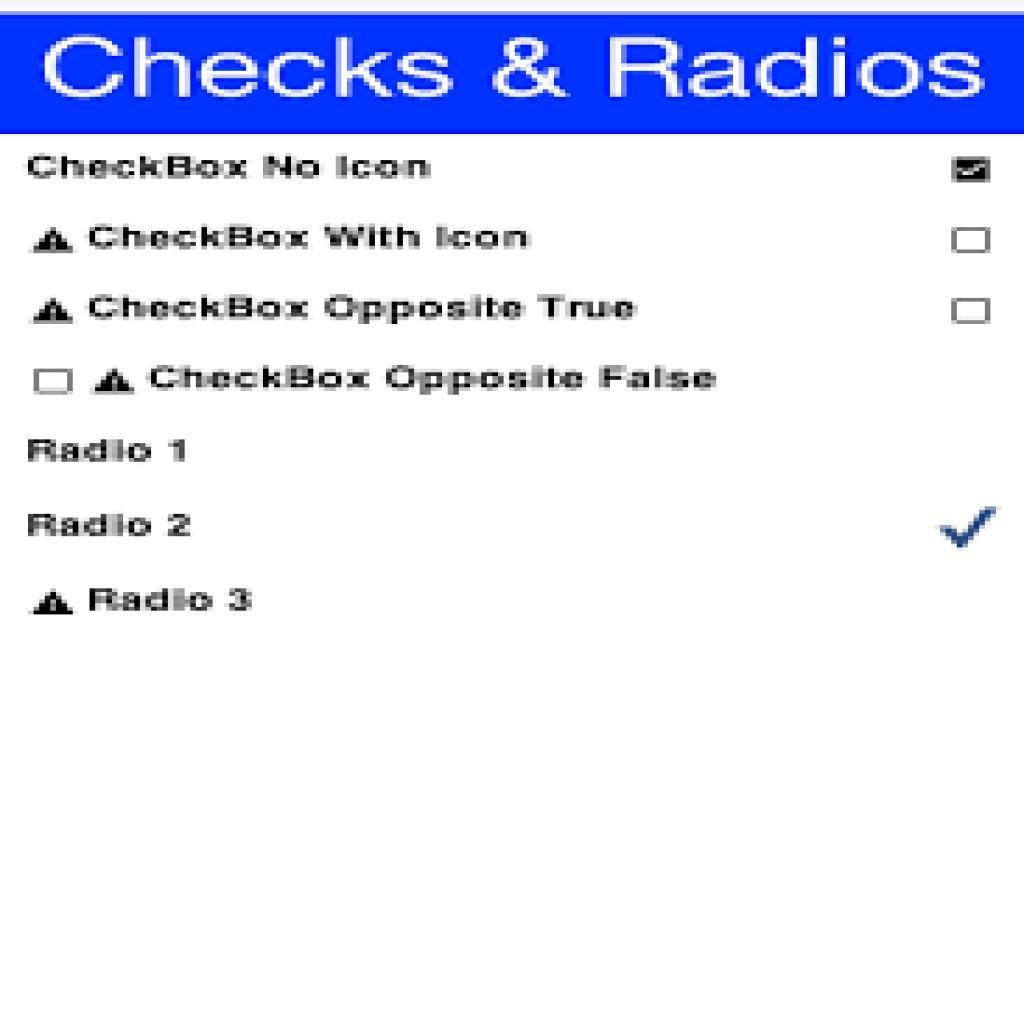checkbox: (953, 229, 992, 256), (952, 298, 991, 325), (952, 157, 991, 183), (34, 370, 74, 395)
icon: (936, 504, 1003, 556), (90, 362, 131, 396), (31, 588, 77, 618), (30, 297, 73, 327), (30, 228, 76, 256)
label: (148, 361, 719, 397), (82, 217, 537, 258), (90, 292, 644, 322), (30, 154, 438, 186), (22, 435, 199, 470), (27, 507, 196, 543), (87, 585, 260, 620)
